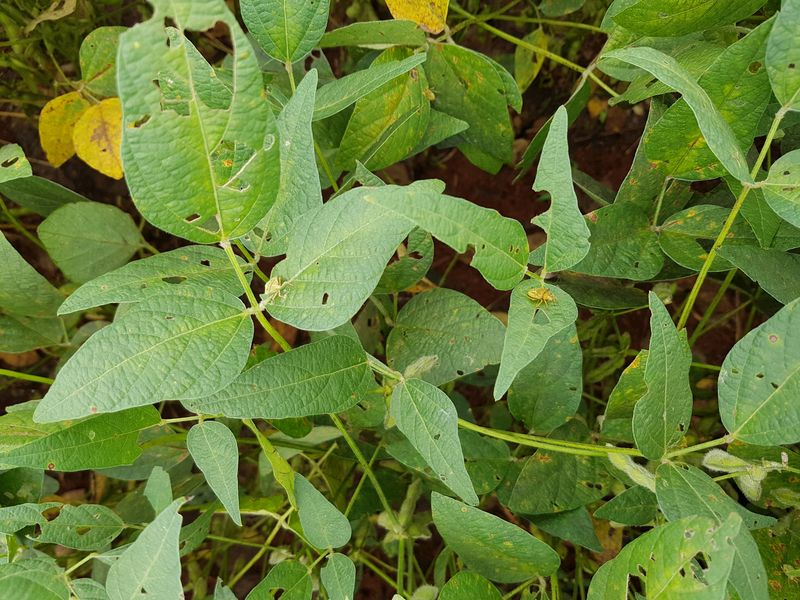Euschistus_heros_ninfa: (520, 280, 558, 316), (255, 273, 292, 304)
